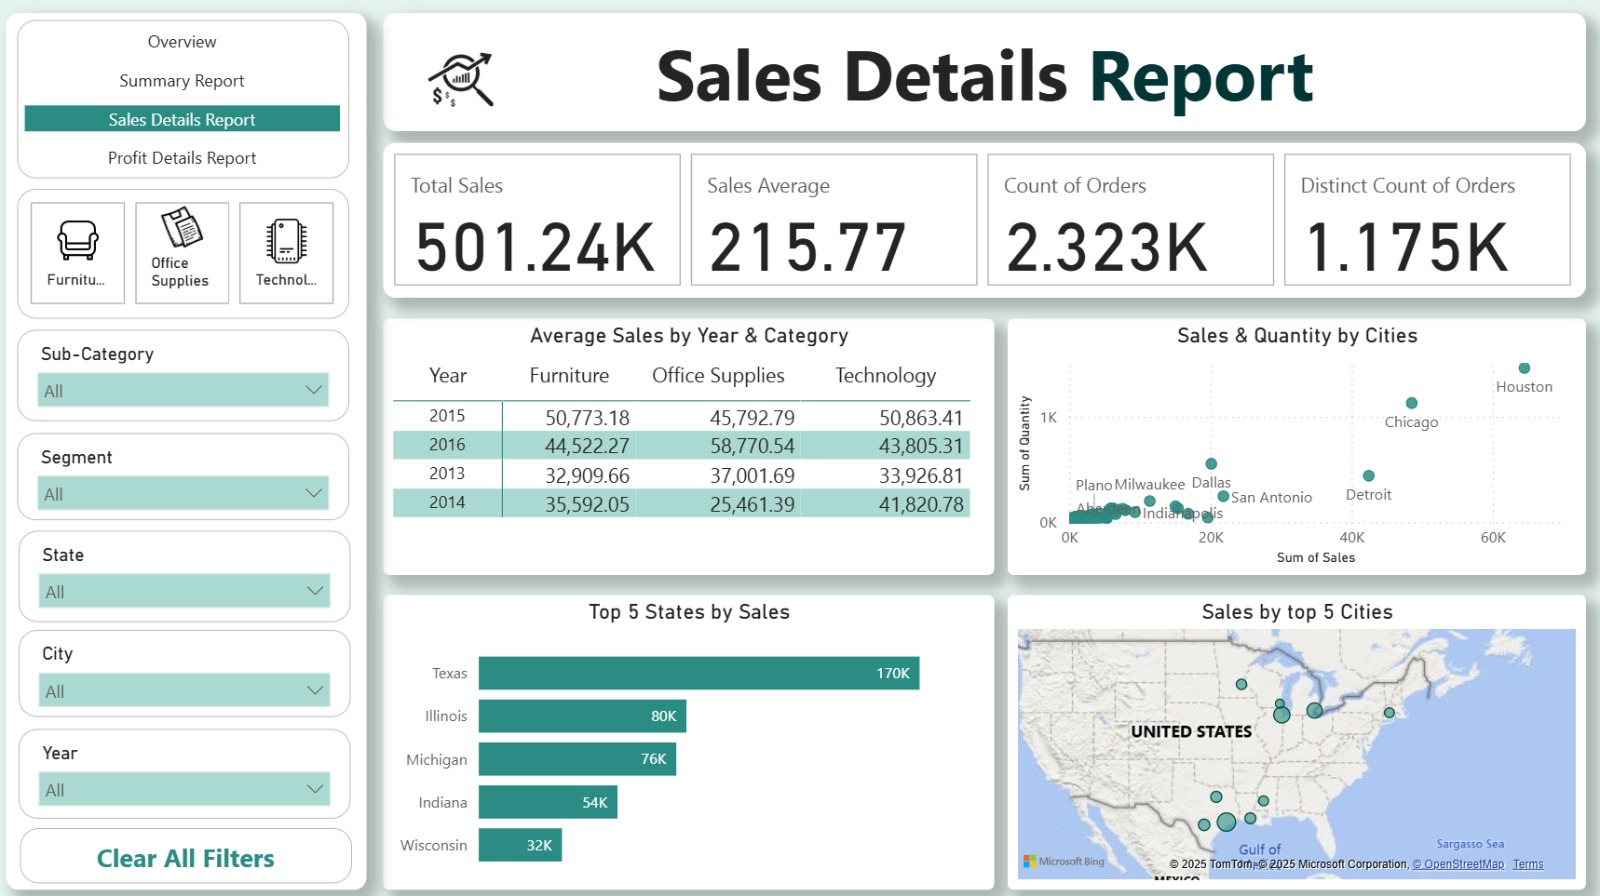

Layout of this report page (visuals, bound fields, positions):
{"tool":"powerbi","page":{"name":"Sales Details Report","canvas":[1280,720],"ordinal":2},"visuals":[{"type":"textbox","box":[307.7,11.3,957,93.9],"z":0},{"type":"slicer","fields":{"Values":["Central_Region.Order Date.Variation.Date Hierarchy.Year"]},"box":[18.8,581.2,263.9,71.2],"z":0,"group":"g1"},{"type":"slicer","fields":{"Values":["Central_Region.City"]},"box":[18.8,502,263.9,69.6],"z":1000,"group":"g1"},{"type":"slicer","fields":{"Values":["Central_Region.Segment"]},"box":[17.2,344.9,263.9,69.6],"z":2000,"group":"g1"},{"type":"slicer","fields":{"Values":["Central_Region.Sub-Category"]},"box":[17.3,262.3,263.9,72.9],"z":3000,"group":"g1"},{"type":"advancedSlicerVisual","fields":{"Values":["Cat_Image.Category"]},"box":[17.3,150.6,263.9,103.6],"z":4000,"group":"g1"},{"type":"pivotTable","title":"Average Sales by Year & Category","fields":{"Rows":["Central_Region.Order Date.Variation.Date Hierarchy.Year"],"Columns":["Central_Region.Category"],"Values":["Sum(Central_Region.Sales)"]},"box":[307.7,254.2,485.8,204],"z":4000},{"type":"slicer","fields":{"Values":["Central_Region.State"]},"box":[18.8,422.5,263.9,72.9],"z":5000,"group":"g1"},{"type":"clusteredBarChart","title":"Top 5 States by Sales","fields":{"Y":["Sum(Central_Region.Sales)"],"Category":["Central_Region.State"]},"box":[307.7,474.4,485.8,234.8],"z":5000},{"type":"scatterChart","title":"Sales & Quantity by Cities","fields":{"X":["Sum(Central_Region.Sales)"],"Y":["Sum(Central_Region.Quantity)"],"Category":["Central_Region.City"]},"box":[804.8,254.2,459.9,204],"z":6000},{"type":"actionButton","title":"Clear All Filters","box":[18.9,659,263.9,43.7],"z":6000,"group":"g1"},{"type":"pageNavigator","box":[17.3,16.2,263.9,126.3],"z":7000,"group":"g1"},{"type":"map","title":"Sales by top 5 Cities","fields":{"Category":["Central_Region.City"],"Size":["Sum(Central_Region.Sales)"]},"box":[804.8,474.4,459.9,234.8],"z":7000},{"type":"textbox","box":[8.1,11.3,286.6,697.9],"z":8000},{"type":"image","box":[283.4,0,171.6,127.9],"z":9000},{"type":"group","id":"g1","title":"Group 1","box":[17.2,16.2,265.7,686.6],"z":10000},{"type":"cardVisual","fields":{"Data":["Sum(Central_Region.Sales)","Avg(Central_Region.Sales)","CountNonNull(Central_Region.Order ID)","Count(Central_Region.Order ID)1"]},"box":[307.7,115,957,123.1],"z":11000}]}

Visuals, with their boxes in screenshot pixels (x1, y1, x2, y2), scaled from the page's 1280x720 canvas onto the 1600x896 screenshot:
textbox: box(385, 14, 1581, 131)
slicer - Central_Region.Order Date.Variation.Date Hierarchy.Year: box(24, 723, 353, 812)
slicer - Central_Region.City: box(24, 625, 353, 711)
slicer - Central_Region.Segment: box(22, 429, 351, 516)
slicer - Central_Region.Sub-Category: box(22, 326, 352, 417)
advancedSlicerVisual - Cat_Image.Category: box(22, 187, 352, 316)
"Average Sales by Year & Category" pivotTable: box(385, 316, 992, 570)
slicer - Central_Region.State: box(24, 526, 353, 616)
"Top 5 States by Sales" clusteredBarChart: box(385, 590, 992, 883)
"Sales & Quantity by Cities" scatterChart: box(1006, 316, 1581, 570)
"Clear All Filters" actionButton: box(24, 820, 353, 874)
pageNavigator: box(22, 20, 352, 177)
"Sales by top 5 Cities" map: box(1006, 590, 1581, 883)
textbox: box(10, 14, 368, 883)
image: box(354, 0, 569, 159)
"Group 1" group: box(22, 20, 354, 875)
cardVisual - Sum(Central_Region.Sales) x Avg(Central_Region.Sales): box(385, 143, 1581, 296)
